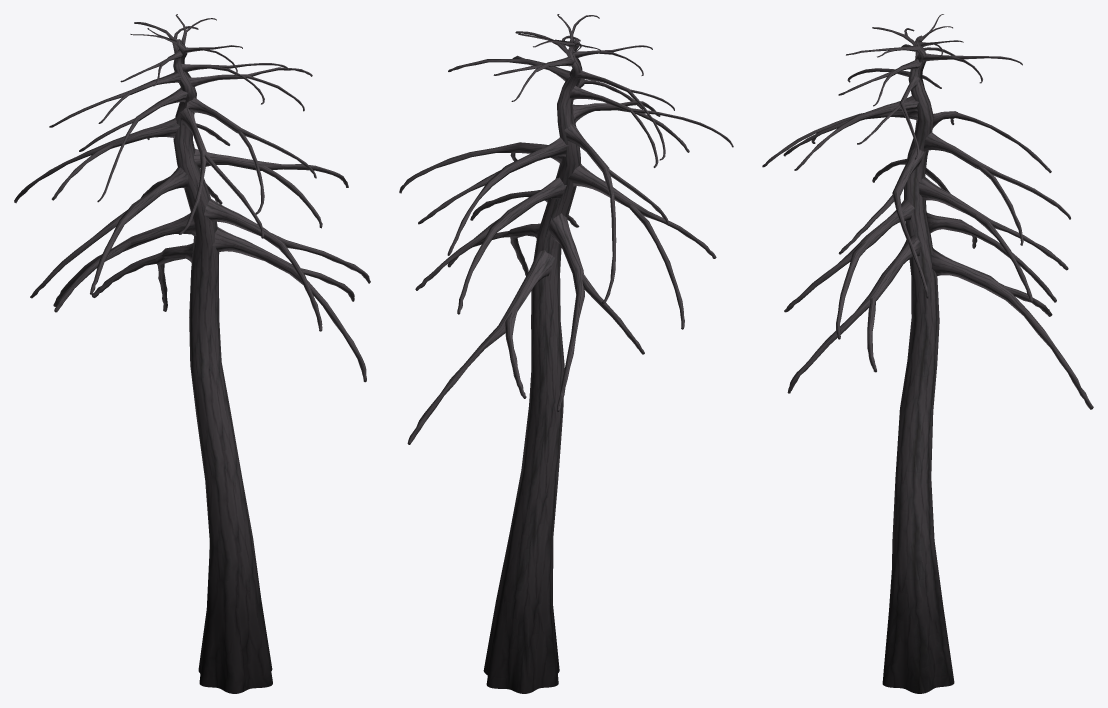
Rendered from DeadTree_3.glb.
3 renders of one model, left to right at view 1: azimuth 30°, elevation 25°; view 2: azimuth 150°, elevation 25°; view 3: azimuth 270°, elevation 25°, orthographic. The views are drawn at different scales.
Parts seen in each view (by area): view 1: DeadTree_3; view 2: DeadTree_3; view 3: DeadTree_3.
Boxes of the visible parts, x1=… form: DeadTree_3: x1=14, y1=14, x2=370, y2=693; DeadTree_3: x1=399, y1=14, x2=733, y2=693; DeadTree_3: x1=762, y1=14, x2=1093, y2=693.
Size of the model in its own units: 6.39 by 13.28 by 6.43.
1 material, 1 textured.
